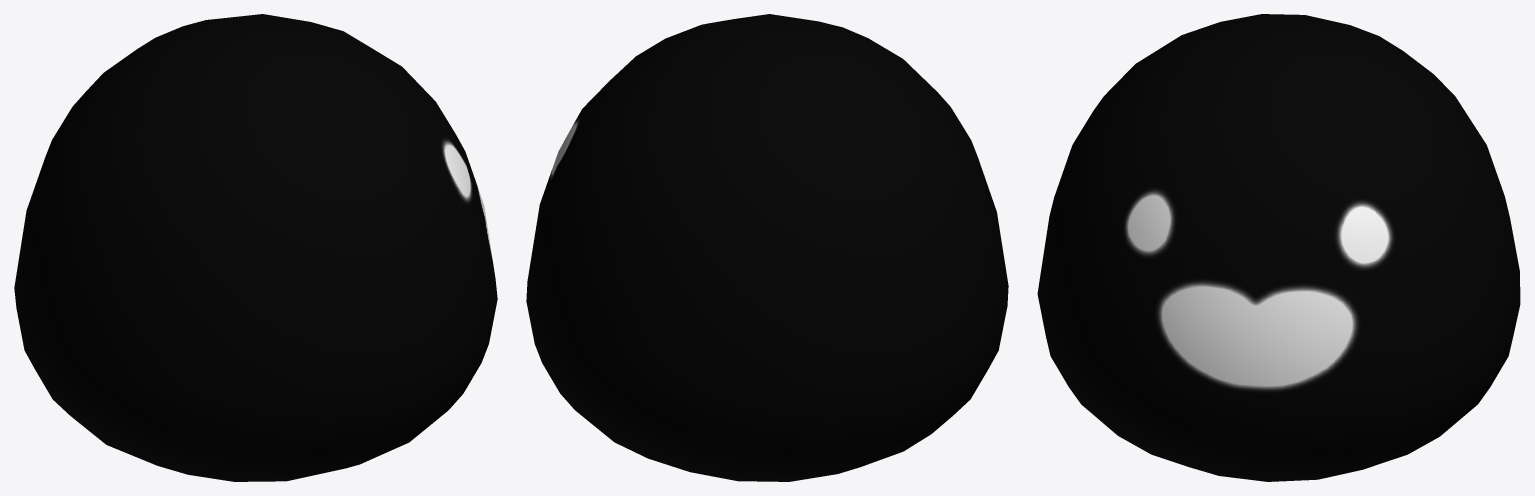
File: Slime_V1_Low.fbx
3 renders of one model, left to right at view 1: azimuth 30°, elevation 25°; view 2: azimuth 150°, elevation 25°; view 3: azimuth 270°, elevation 25°, orthographic.
Parts seen in each view (by area): view 1: Slime_V1_Low; view 2: Slime_V1_Low; view 3: Slime_V1_Low.
Part boxes in pixels (left/top/right/bottom): Slime_V1_Low: left=14, top=14, right=497, bottom=481; Slime_V1_Low: left=526, top=14, right=1008, bottom=481; Slime_V1_Low: left=1037, top=14, right=1520, bottom=481.
Size of the model in its own units: 212 by 200 by 211.
